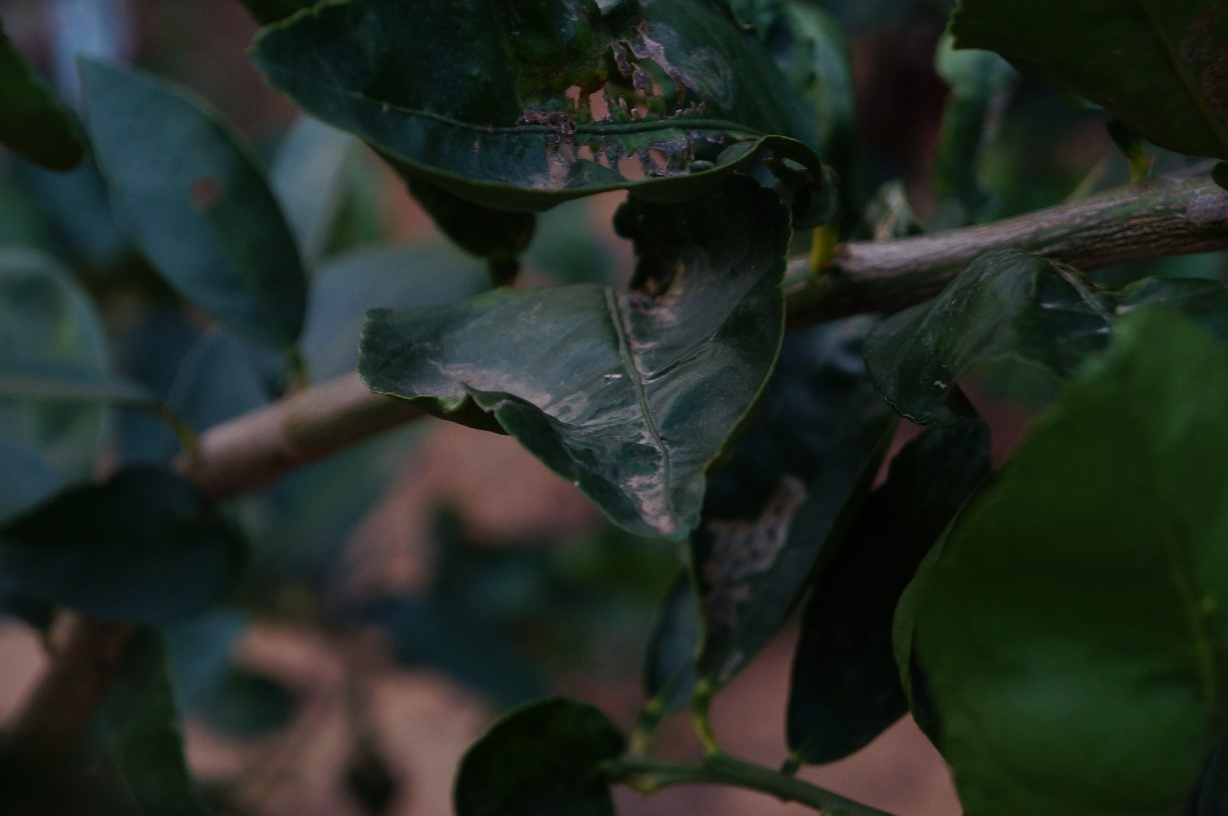damage: (499, 14, 759, 196)
